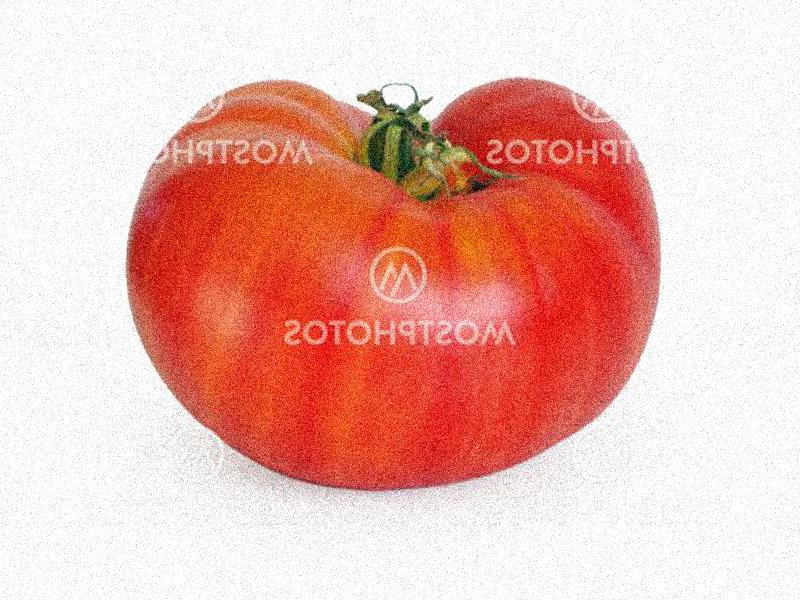Tomato: (126, 77, 658, 488)
